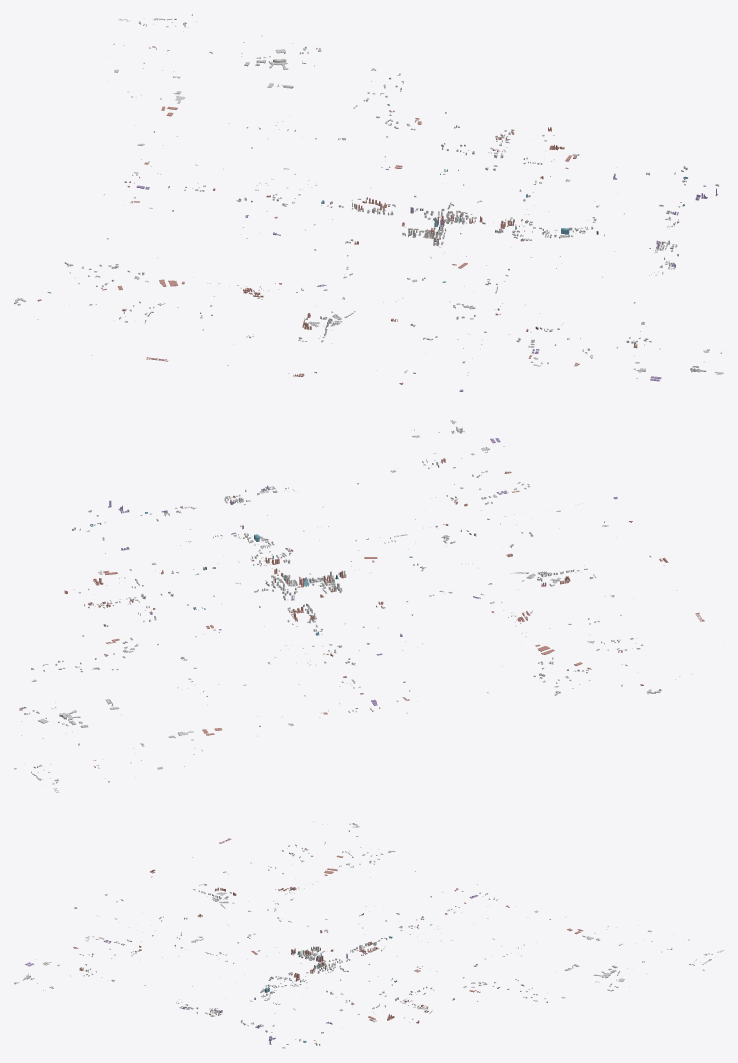
File: citywide.glb
3 views of the same model, one above another, from view 1: azimuth 30°, elevation 25°; view 2: azimuth 150°, elevation 25°; view 3: azimuth 270°, elevation 25° (orthographic). The views are drawn at different scales.
Parts seen in each view (by area): view 1: existing-overview; view 2: existing-overview; view 3: existing-overview.
Boxes of the visible parts, x1,y1,x2,y2 form: existing-overview: (14,14,723,375); existing-overview: (14,420,723,792); existing-overview: (14,821,723,1048).
Size of the model in its own units: 19716 by 312 by 26426.
